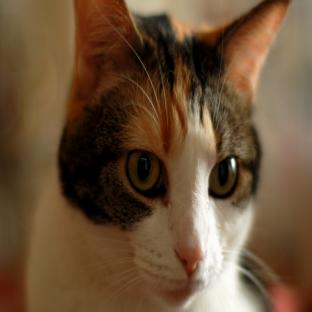Animal: (27, 0, 292, 312)
